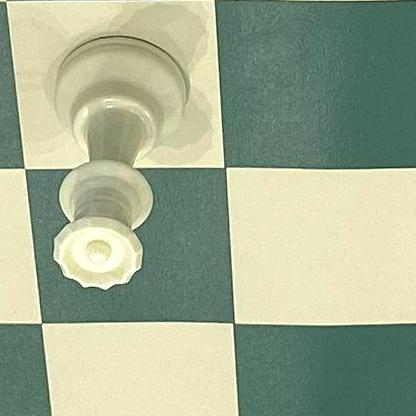white-queen: (48, 34, 193, 292)
